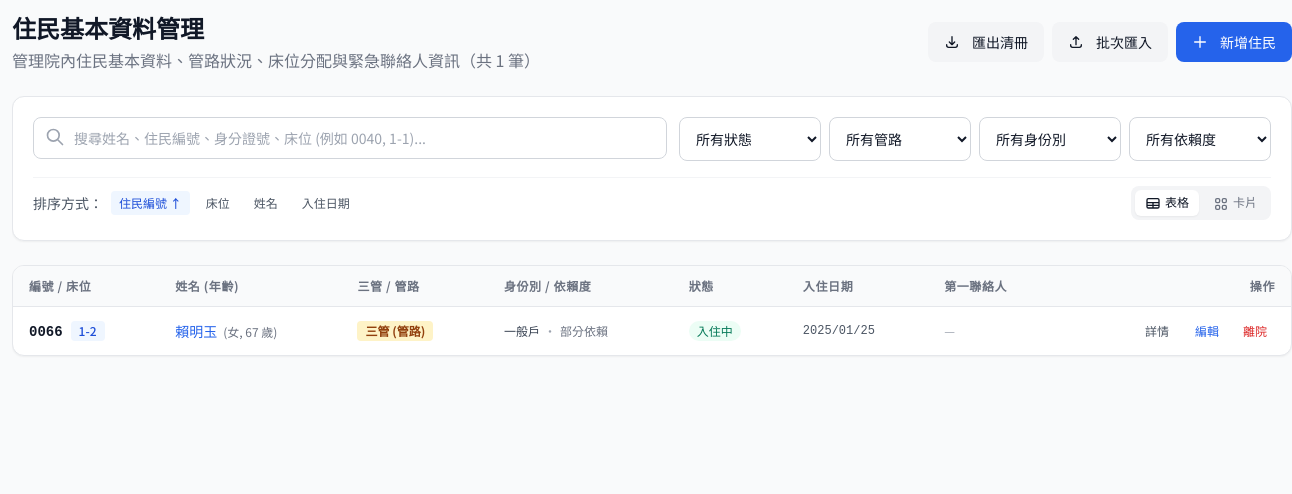
Test: ResidentsPage › switches between Table and Grid view modes
The width and height of the screenshot is (1292, 494).
Expected: the link "賴明玉" is shown, x1=175 y1=321 x2=217 y2=341
Click the button with aria-label "切換卡片檢視". click: (1235, 203)
box: x1=1203 y1=190 x2=1267 y2=216
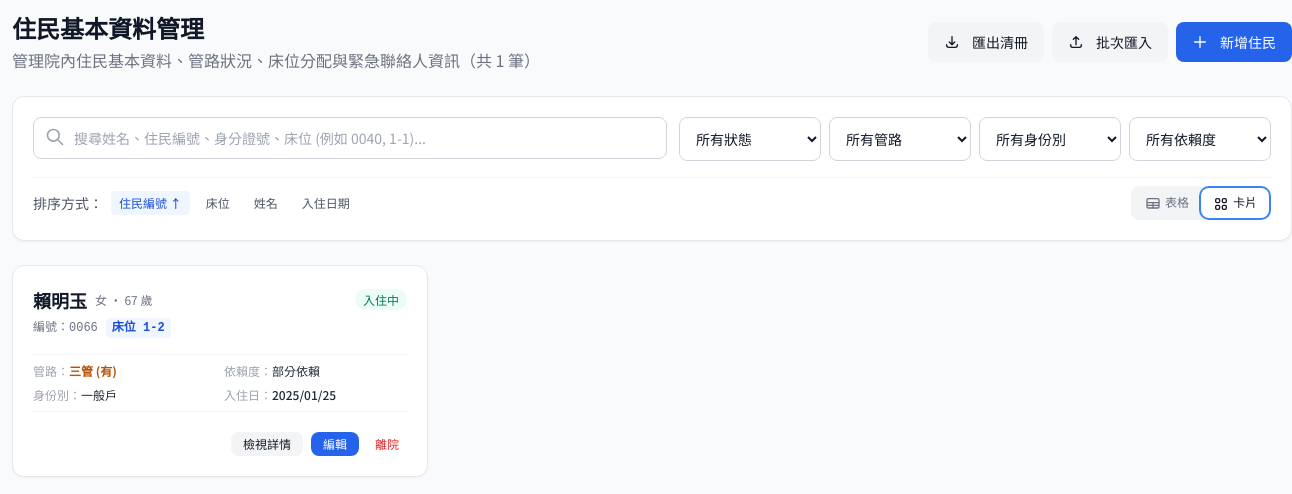
Now the text "編號：0066" is shown, box x1=33 y1=320 x2=98 y2=336
